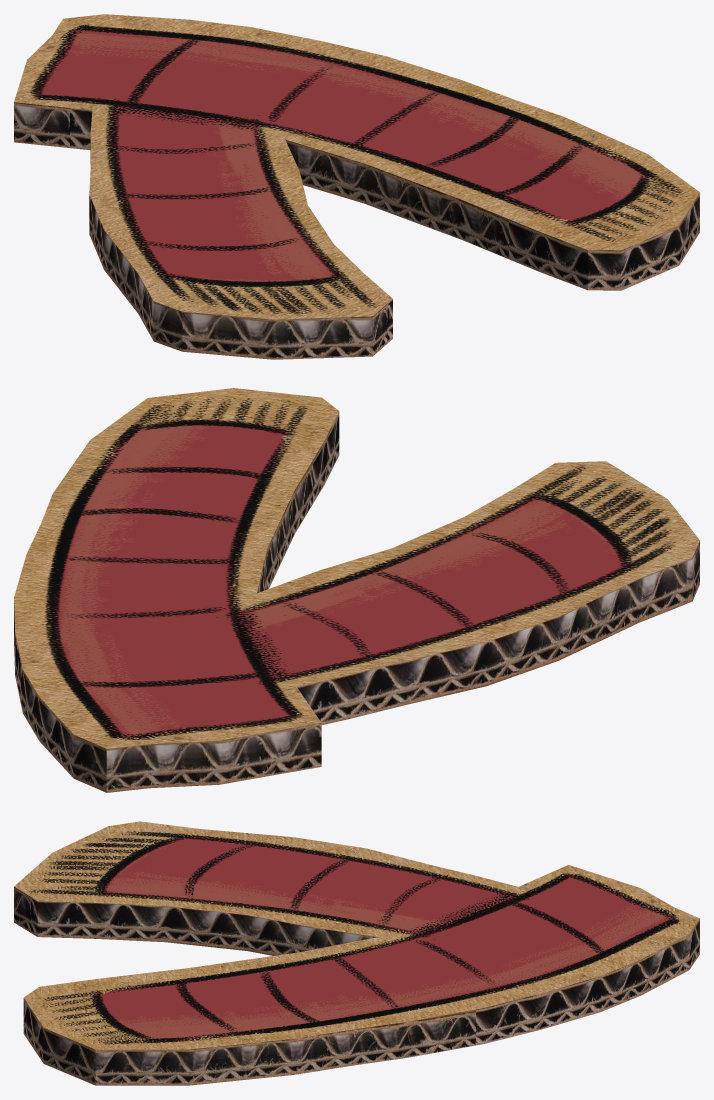
File: Scarf.fbx
3 renders of one model, top to bottom at view 1: azimuth 30°, elevation 25°; view 2: azimuth 150°, elevation 25°; view 3: azimuth 270°, elevation 25°, orthographic. The views are drawn at different scales.
Visible parts, largest first — view 1: Scarf; view 2: Scarf; view 3: Scarf.
Part boxes in pixels (<box>): Scarf: <box>14,14,699,359</box>; Scarf: <box>14,388,699,792</box>; Scarf: <box>14,821,699,1085</box>.
Bounding box in the file's own units: 73.05 × 5.37 × 92.82.
